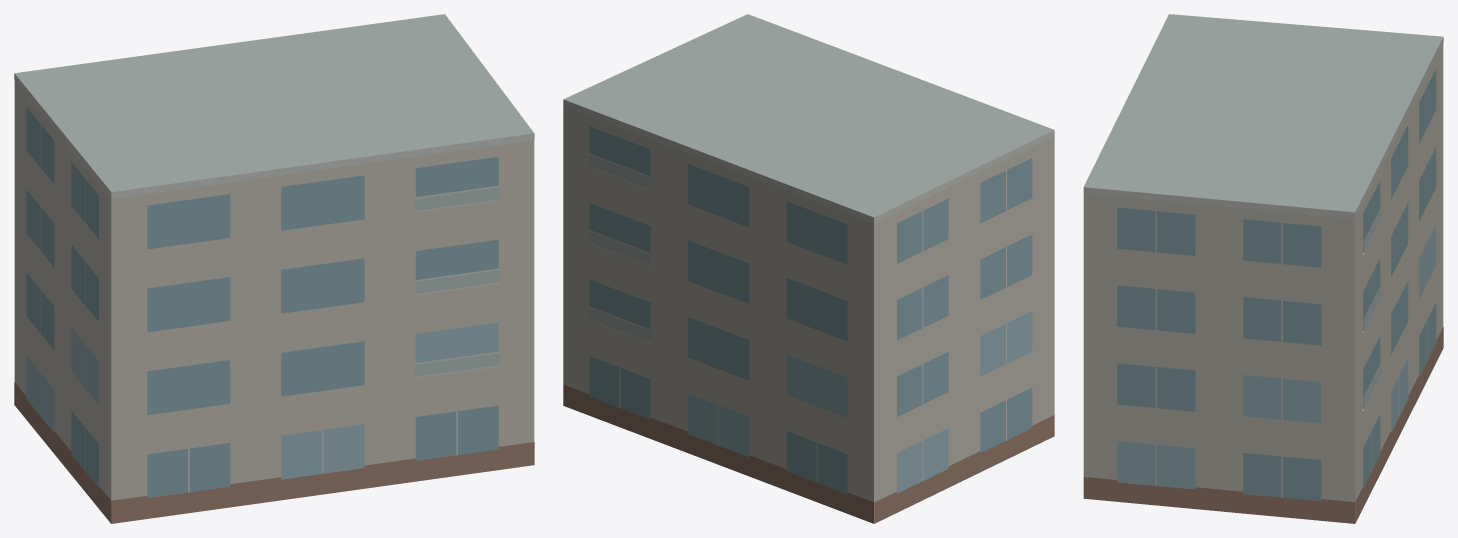
Rendered from survey-upis-32652598.glb.
The picture shows the model from 3 angles, left to right: view 1: azimuth 30°, elevation 25°; view 2: azimuth 150°, elevation 25°; view 3: azimuth 270°, elevation 25°; orthographic projection. The views are drawn at different scales.
Visible parts, largest first — view 1: survey-upis-32652598.tmp; view 2: survey-upis-32652598.tmp; view 3: survey-upis-32652598.tmp.
Boxes of the visible parts, x1,y1,x2,y2 form: survey-upis-32652598.tmp: (14, 14, 534, 523); survey-upis-32652598.tmp: (563, 14, 1054, 523); survey-upis-32652598.tmp: (1083, 14, 1443, 523).
Bounding box in the file's own units: 16.05 × 11.75 × 12.32.
